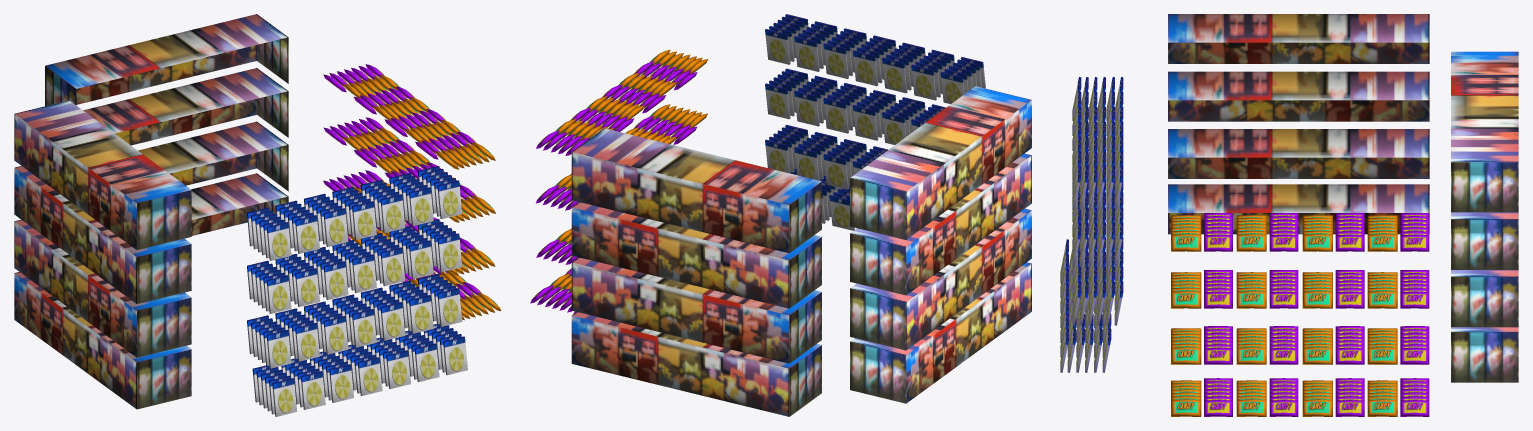
File: Four_Shelf_Items.fbx
3 renders of one model, left to right at view 1: azimuth 30°, elevation 25°; view 2: azimuth 150°, elevation 25°; view 3: azimuth 270°, elevation 25°, orthographic. The views are drawn at different scales.
Visible parts, largest first — view 1: Four_Shelf_Items; view 2: Four_Shelf_Items; view 3: Four_Shelf_Items.
Part boxes in pixels (x1=…): Four_Shelf_Items: x1=14, y1=14, x2=500, y2=416; Four_Shelf_Items: x1=530, y1=14, x2=1031, y2=416; Four_Shelf_Items: x1=1060, y1=14, x2=1518, y2=416.
Bounding box in the file's own units: 3.22 × 1.73 × 3.26.
